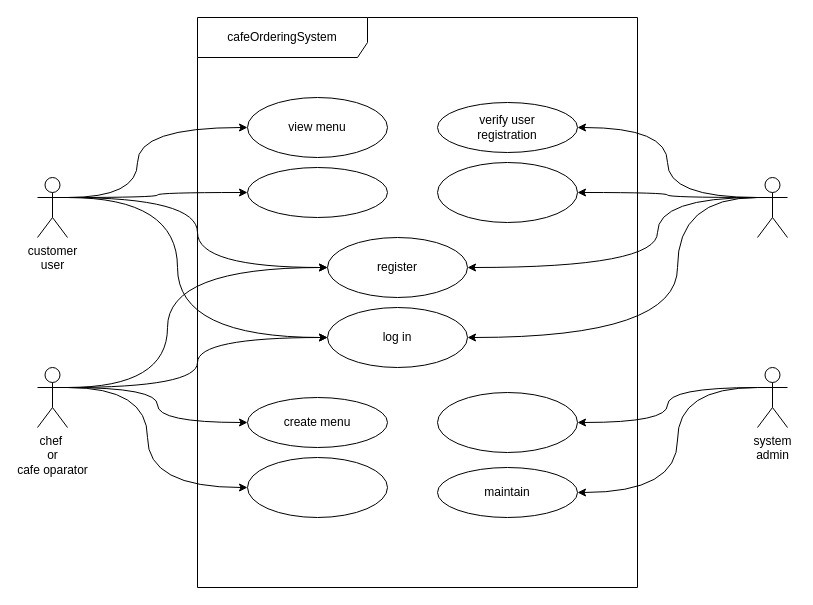
Some shapes in this 813 by 605 pixel diagram are drawn without their labels. Each missing label, with the box of its shape:
check performance: (436, 392, 578, 452)
get mothly transaction records: (436, 162, 578, 222)
HR manager: (756, 176, 788, 238)
place order: (246, 166, 388, 218)
verify customer order: (246, 456, 388, 518)
